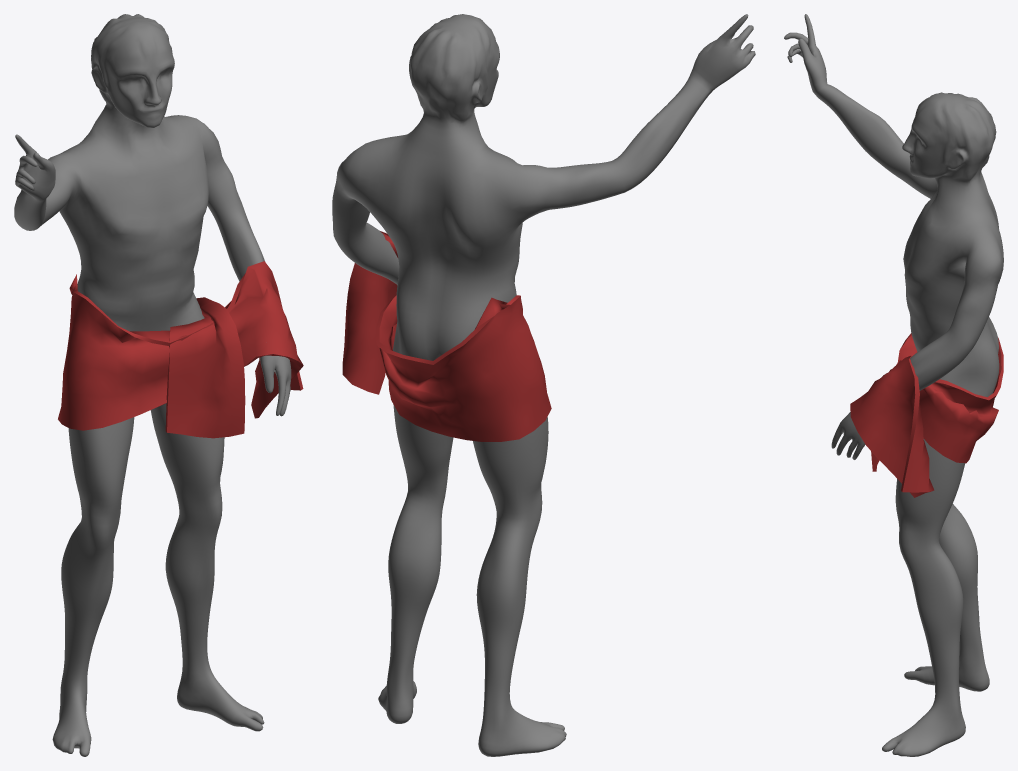
Rendered from SM_sculpture_augustus.fbx.
The picture shows the model from 3 angles, left to right: view 1: azimuth 30°, elevation 25°; view 2: azimuth 150°, elevation 25°; view 3: azimuth 270°, elevation 25°; orthographic projection. The views are drawn at different scales.
Parts seen in each view (by area): view 1: 12323; view 2: 12323; view 3: 12323.
Boxes of the visible parts, x1,y1,x2,y2 form: 12323: [14, 14, 303, 756]; 12323: [332, 14, 755, 756]; 12323: [784, 14, 1003, 756].
Size of the model in its own units: 36.18 by 71.03 by 22.79.
